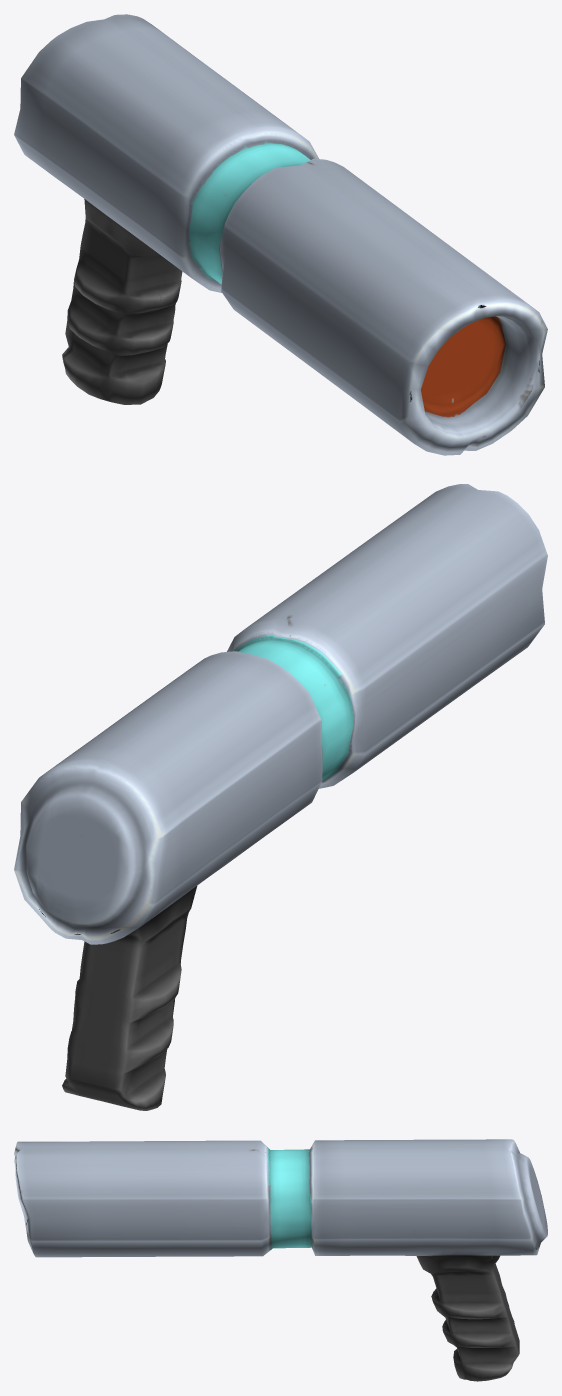
File: pistol.fbx
The picture shows the model from 3 angles, top to bottom: view 1: azimuth 30°, elevation 25°; view 2: azimuth 150°, elevation 25°; view 3: azimuth 270°, elevation 25°; orthographic projection. The views are drawn at different scales.
Parts seen in each view (by area): view 1: Gun; view 2: Gun; view 3: Gun.
Part boxes in pixels (x1,y1,x2,y2): Gun: (14,14,547,455); Gun: (14,484,547,1110); Gun: (14,1139,547,1381).
Size of the model in its own units: 161 by 377 by 794.
